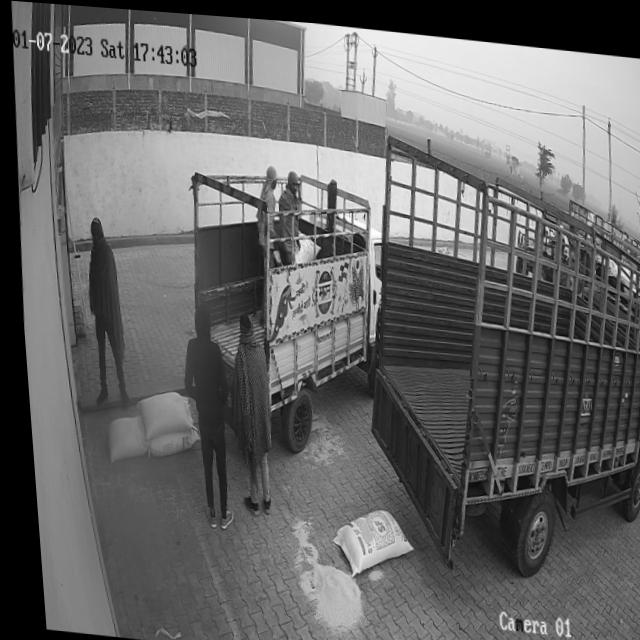sack: (320, 498, 407, 576), (128, 385, 188, 441), (97, 410, 141, 463), (140, 422, 194, 458)
